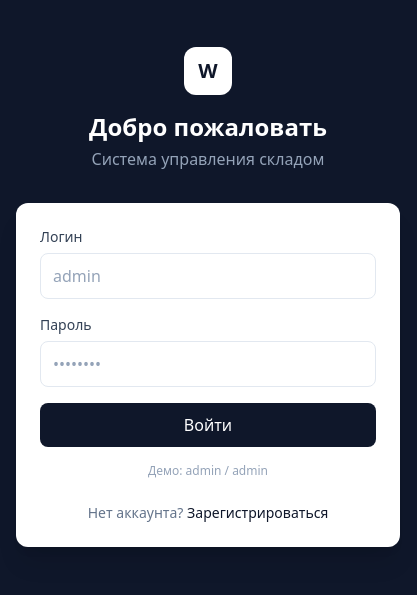
Scenario: LoginPage › handles login error
Type "wrong" into the field labelled "Логин" at (208, 276), box [40, 253, 376, 299]
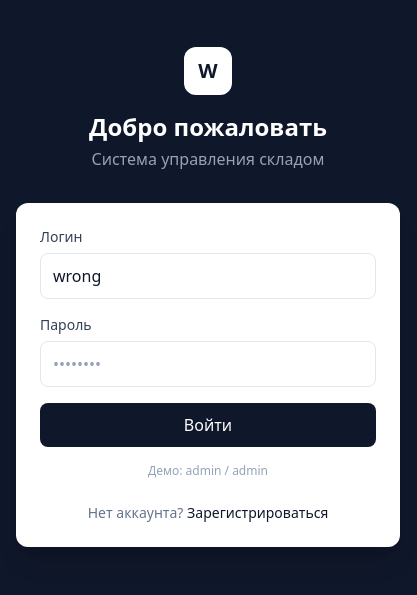
Type "wrong" into the password field labelled "Пароль" at (208, 364), box [40, 341, 376, 387]
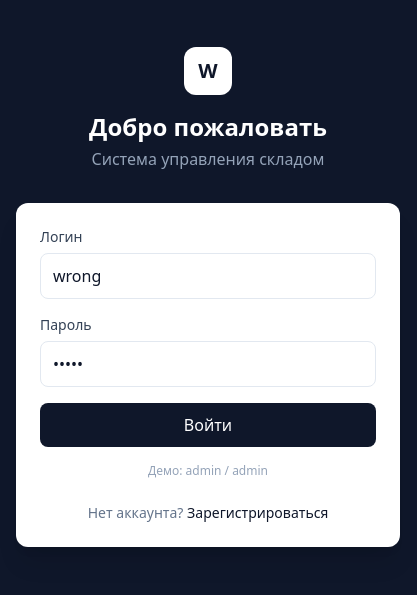
Click the button "Войти" at (208, 425), box [40, 403, 376, 447]
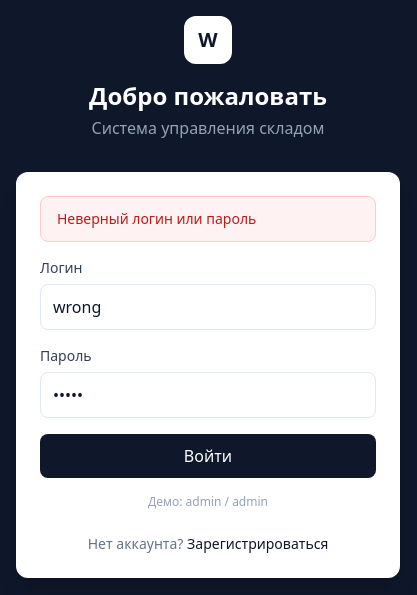
Now the text "Неверный логин или пароль" is shown, box [40, 196, 376, 242]
